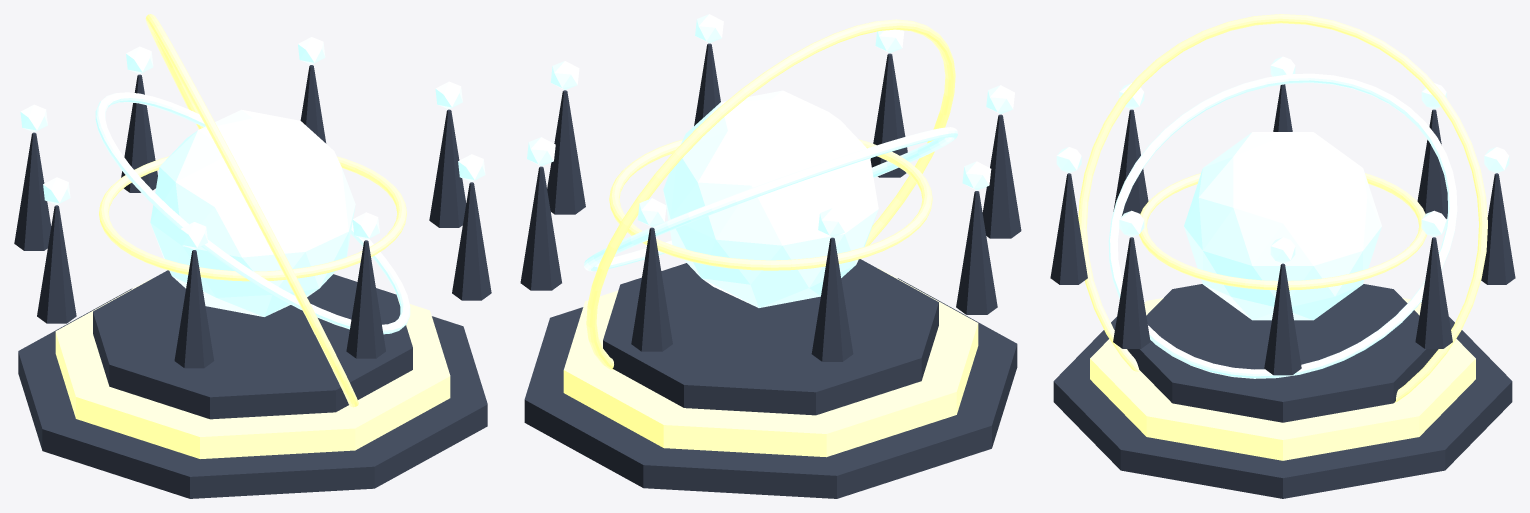
Rendered from gpu-blender-v17.glb.
The picture shows the model from 3 angles, left to right: view 1: azimuth 30°, elevation 25°; view 2: azimuth 150°, elevation 25°; view 3: azimuth 270°, elevation 25°; orthographic projection. The views are drawn at different scales.
Parts seen in each view (by area): view 1: Cylinder.002, SovereignCore_gelato-connector, Cylinder, Cylinder.001, Torus.001, Torus.002, Torus, Cone.005, Cone.007, Cone.004, Cone.006, Cone (+11 smaller); view 2: Cylinder.002, SovereignCore_gelato-connector, Cylinder, Cylinder.001, Torus.002, Torus.001, Torus, Cone.001, Cone.003, Cone.002, Cone.004, Cone (+11 smaller); view 3: SovereignCore_gelato-connector, Cylinder.002, Cylinder, Cylinder.001, Torus.002, Torus.001, Torus, Cone, Cone.001, Cone.007, Cone.006, Cone.002 (+8 smaller).
Boxes of the visible parts, bbox=[...] form: Cylinder.002: bbox=[93, 270, 412, 419]; SovereignCore_gelato-connector: bbox=[150, 109, 355, 316]; Cylinder: bbox=[18, 288, 487, 498]; Cylinder.001: bbox=[55, 278, 450, 458]; Torus.001: bbox=[95, 92, 410, 334]; Torus.002: bbox=[145, 14, 358, 407]; Torus: bbox=[99, 156, 406, 281]; Cone.005: bbox=[174, 250, 214, 368]; Cone.007: bbox=[452, 182, 491, 300]; Cone.004: bbox=[37, 205, 76, 323]; Cone.006: bbox=[346, 240, 385, 358]; Cone: bbox=[429, 109, 466, 227]; Cylinder.002: bbox=[603, 259, 938, 415]; SovereignCore_gelato-connector: bbox=[663, 90, 878, 307]; Cylinder: bbox=[524, 278, 1017, 498]; Cylinder.001: bbox=[563, 268, 978, 457]; Torus.002: bbox=[586, 19, 955, 369]; Torus.001: bbox=[584, 127, 957, 271]; Torus: bbox=[609, 139, 932, 270]; Cone.001: bbox=[520, 166, 561, 290]; Cone.003: bbox=[811, 237, 853, 361]; Cone.002: bbox=[631, 227, 672, 351]; Cone.004: bbox=[956, 191, 997, 314]; Cone: bbox=[547, 90, 585, 214]; SovereignCore_gelato-connector: bbox=[1184, 132, 1381, 320]; Cylinder.002: bbox=[1127, 284, 1438, 422]; Cylinder: bbox=[1053, 317, 1512, 498]; Cylinder.001: bbox=[1090, 298, 1475, 460]; Torus.002: bbox=[1078, 14, 1487, 402]; Torus.001: bbox=[1108, 73, 1457, 378]; Torus: bbox=[1139, 173, 1426, 290]; Cone: bbox=[1264, 263, 1301, 375]; Cone.001: bbox=[1415, 237, 1452, 348]; Cone.007: bbox=[1113, 237, 1150, 348]; Cone.006: bbox=[1050, 173, 1087, 284]; Cone.002: bbox=[1481, 173, 1515, 284].
Size of the model in its own units: 4.41 by 3.72 by 4.46.
